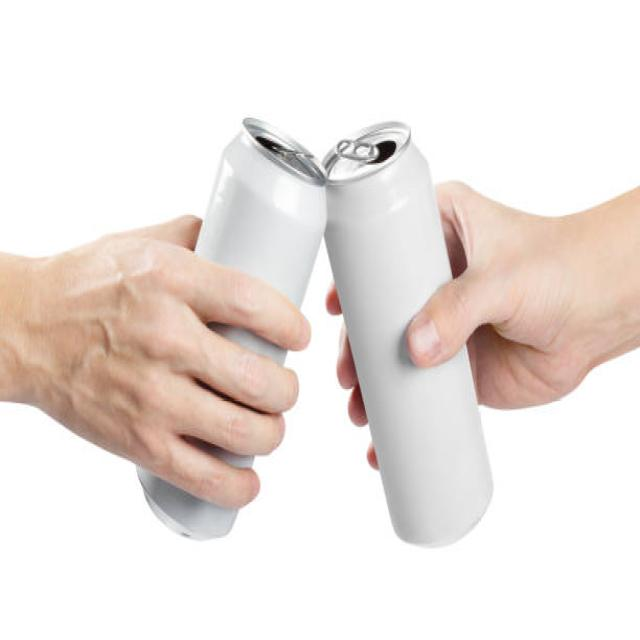soda_can: (127, 88, 338, 592), (313, 106, 516, 568)
